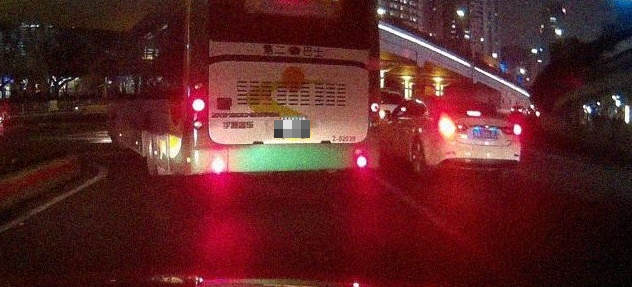L_light: (437, 114, 456, 143)
R_light: (513, 123, 522, 143)
T_light: (467, 110, 481, 117)
night-left: (422, 96, 523, 183)
plate_1: (274, 120, 310, 138)
